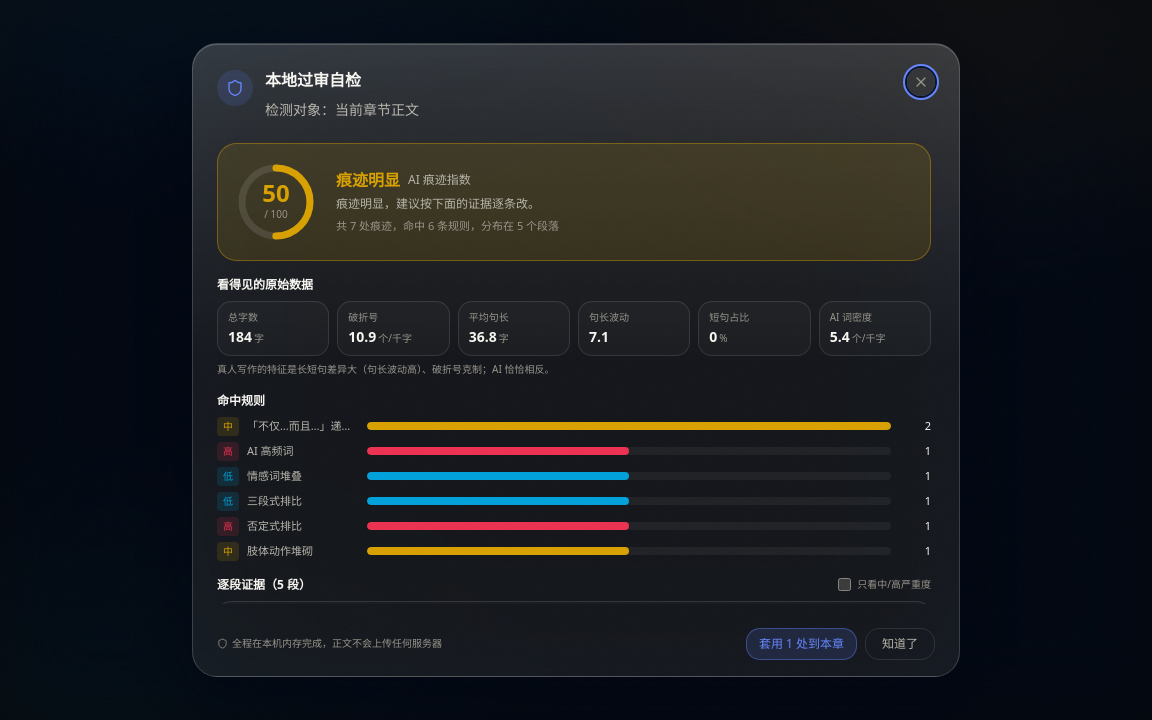
Test: HumanizePanel › 套用成功后出现「套用前 X 分 → 现在 Y 分 ↓N 分」对比条
Click the button "套用 1 处到本章" at {"x": 801, "y": 644}, box [746,628,857,660]
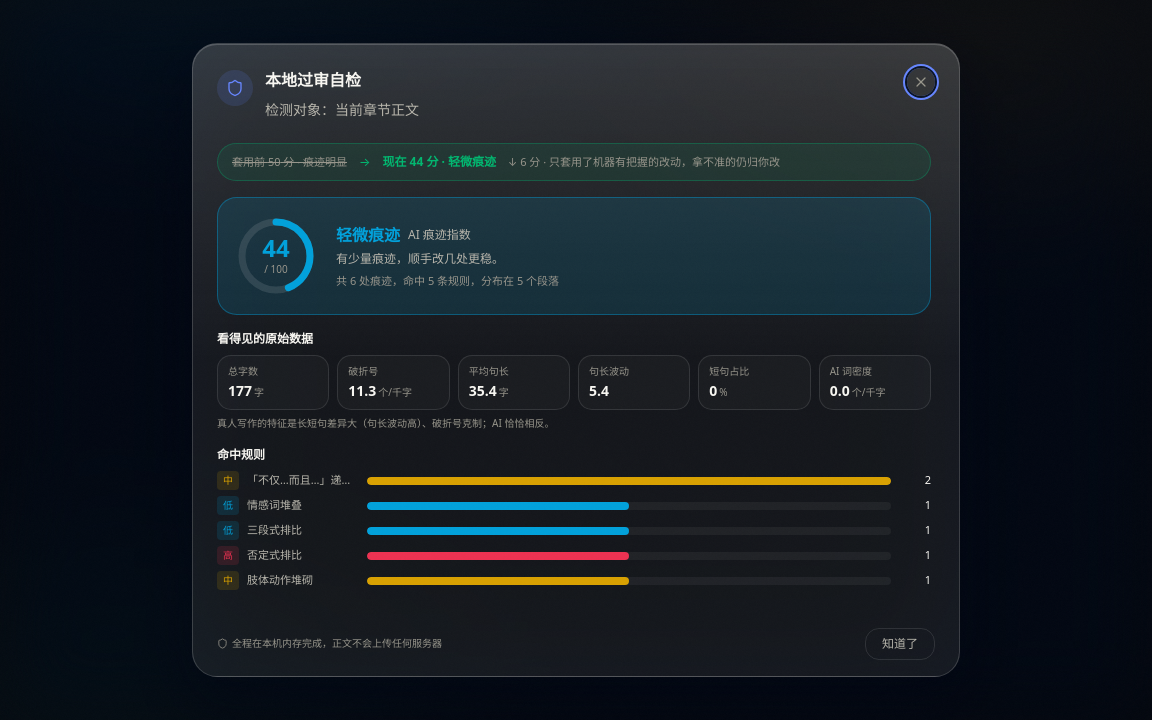
Check: the text "套用前 50 分 · 痕迹明显" is shown, box [232,154,347,170]
Check: the text "现在 44 分 · 轻微痕迹" is shown, box [382,154,496,170]
Check: the text "↓ 6 分 · 只套用了机器有把握的改动，拿不准的仍归你改" is shown, box [508,154,780,170]
